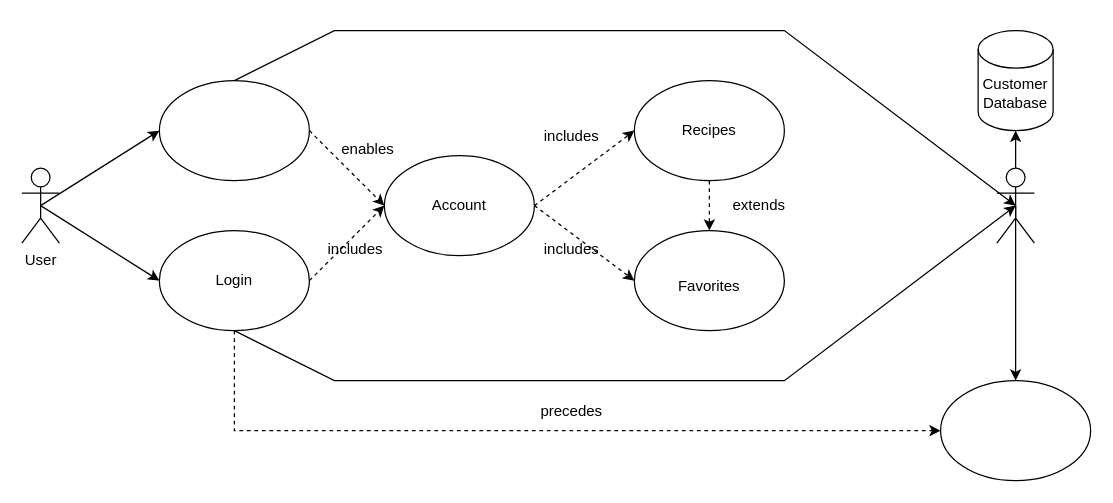
Some shapes in this 1113 by 503 pixel diagram are drawn without their labels. Each missing label, with the centre of its shape:
Check for existing Account: pixel 1015 430
Register: pixel 233 130
System: pixel 1015 205
